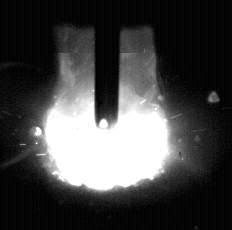arame: (95, 0, 120, 130)
poca: (44, 0, 168, 230)
